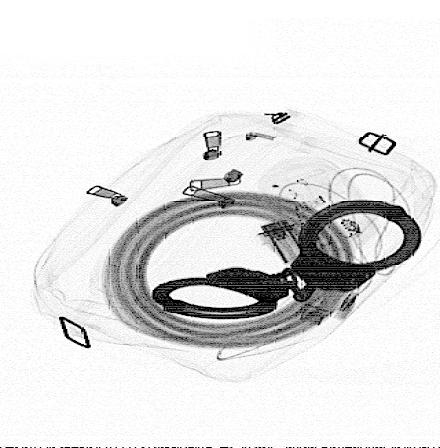HandCuffs: (149, 199, 425, 320)
